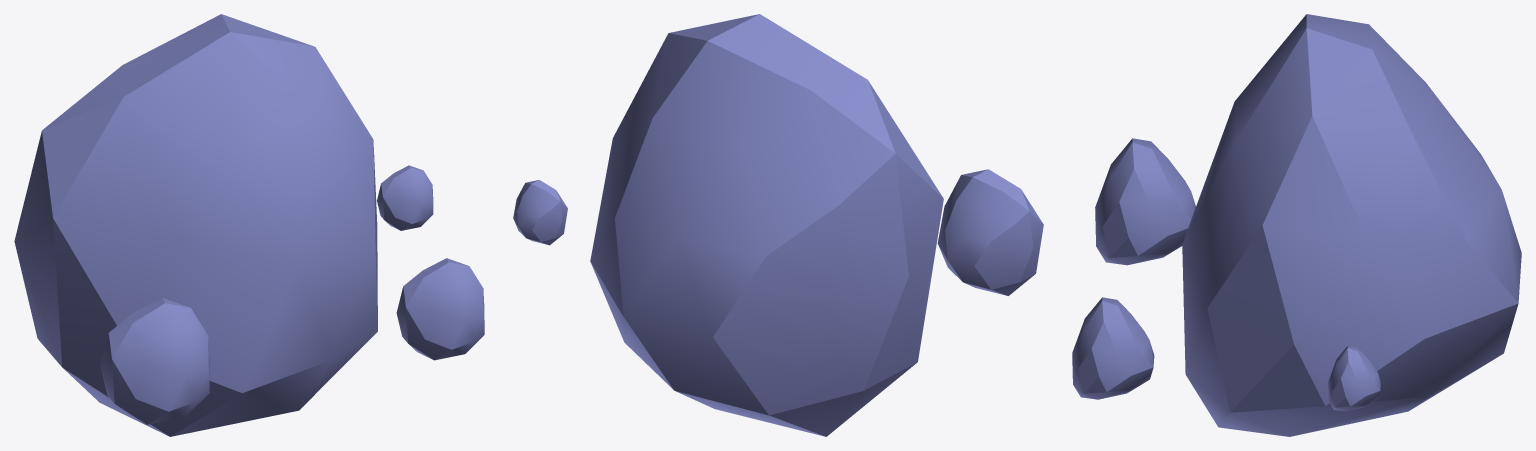
File: A_Comet1.fbx
The picture shows the model from 3 angles, left to right: view 1: azimuth 30°, elevation 25°; view 2: azimuth 150°, elevation 25°; view 3: azimuth 270°, elevation 25°; orthographic projection. The views are drawn at different scales.
Visible parts, largest first — view 1: Rock.012; view 2: Rock.012; view 3: Rock.012.
Boxes of the visible parts, left/top/right/bottom form: Rock.012: left=14, top=14, right=484, bottom=436; Rock.012: left=513, top=14, right=1043, bottom=436; Rock.012: left=1072, top=14, right=1521, bottom=436.
Bounding box in the file's own units: 223 × 191 × 191.
